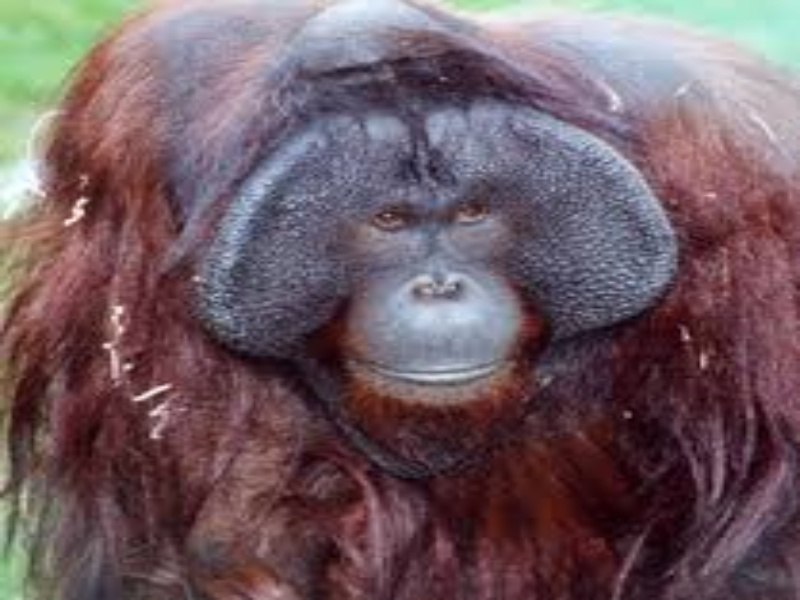monkey: (46, 6, 779, 600)
